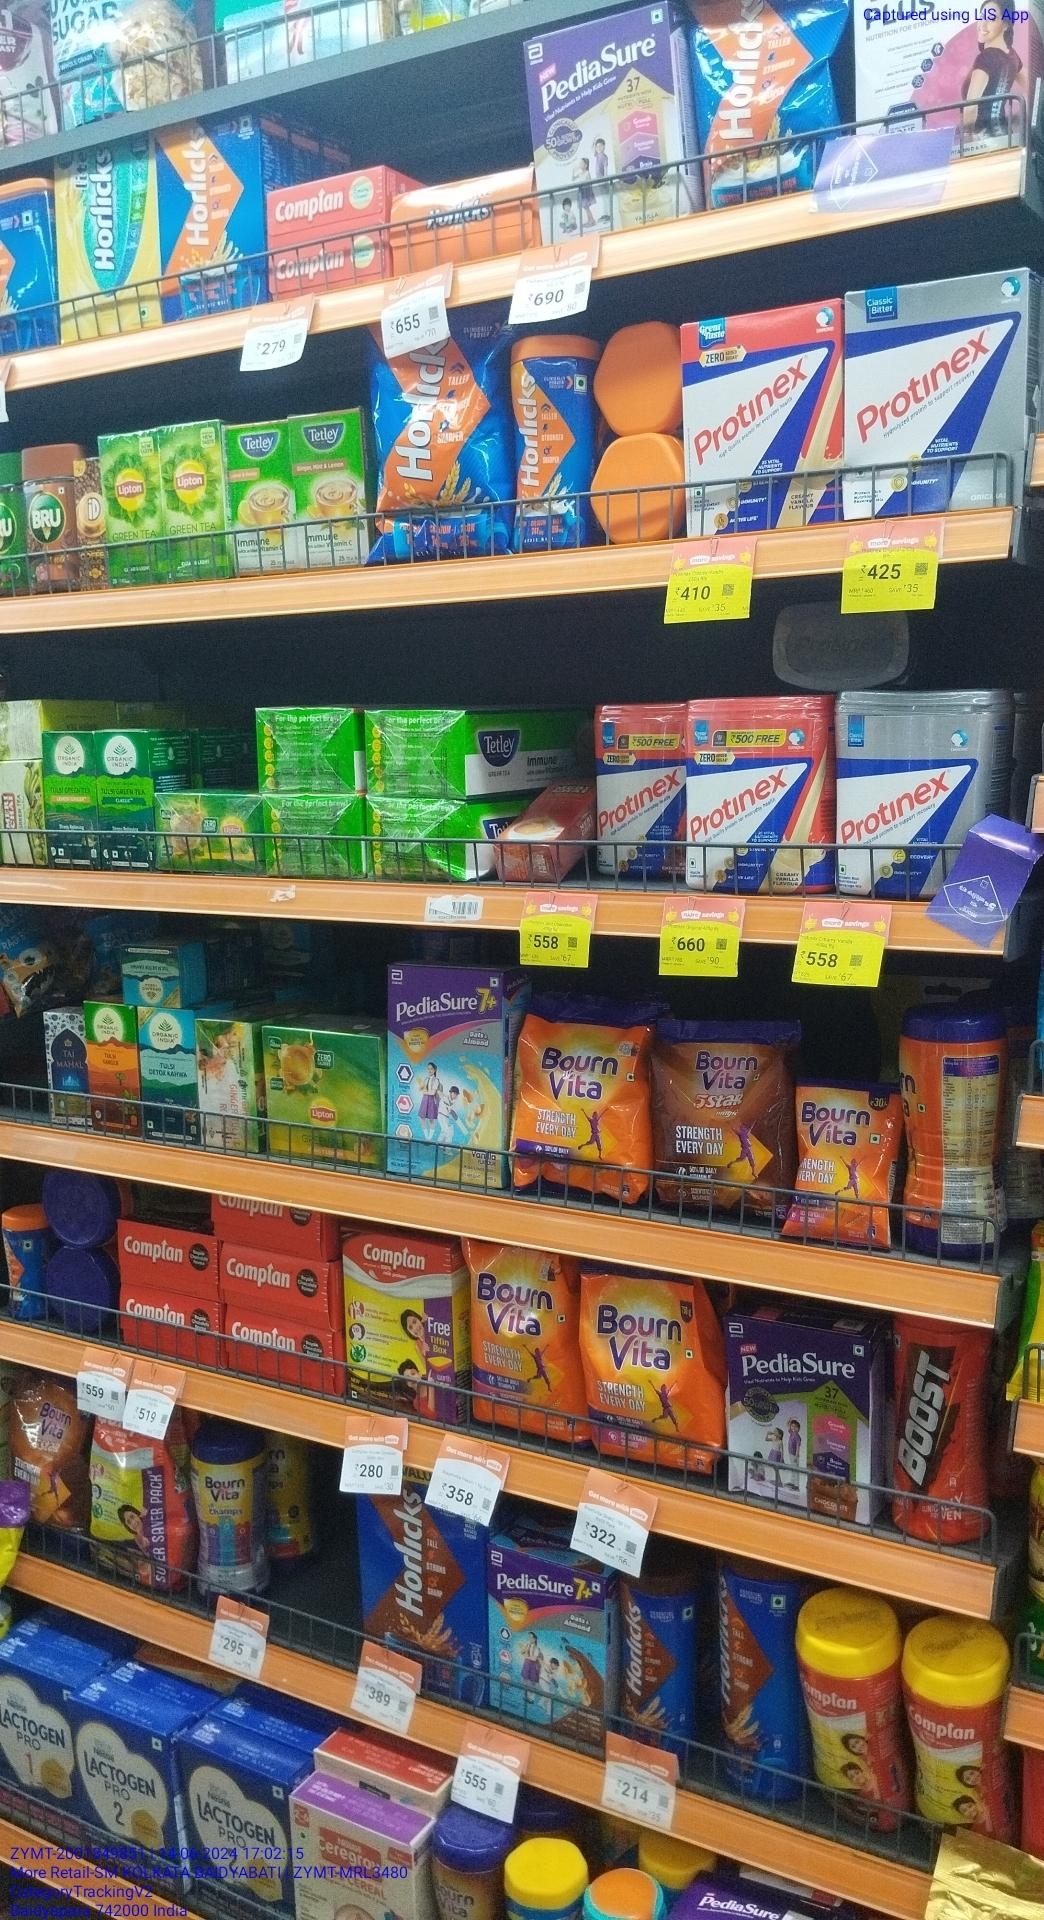BOURN_VITA_500_G_POUCH: (467, 1243, 576, 1446)
BOURN_VITA_750_G_POUCH: (581, 1267, 719, 1474), (516, 1013, 643, 1198)
BOURN_VITA_75_G_POUCH: (782, 1080, 895, 1245)
BOURN_VITA_FIVE_STAR_MAGIC_750_G_POUCH: (651, 1015, 778, 1221)
COMPLAN_RC_POUCH_700_GMS_12: (85, 1424, 177, 1590)
HORLICK_CLASSIC_MALT_500_G_JAR: (512, 330, 589, 544)
HORLICK_CLASSIC_MALT_750_G_POUCH: (378, 347, 510, 559)
PROTINEX_ORIGINAL_400_G_JAR: (837, 686, 984, 893)
